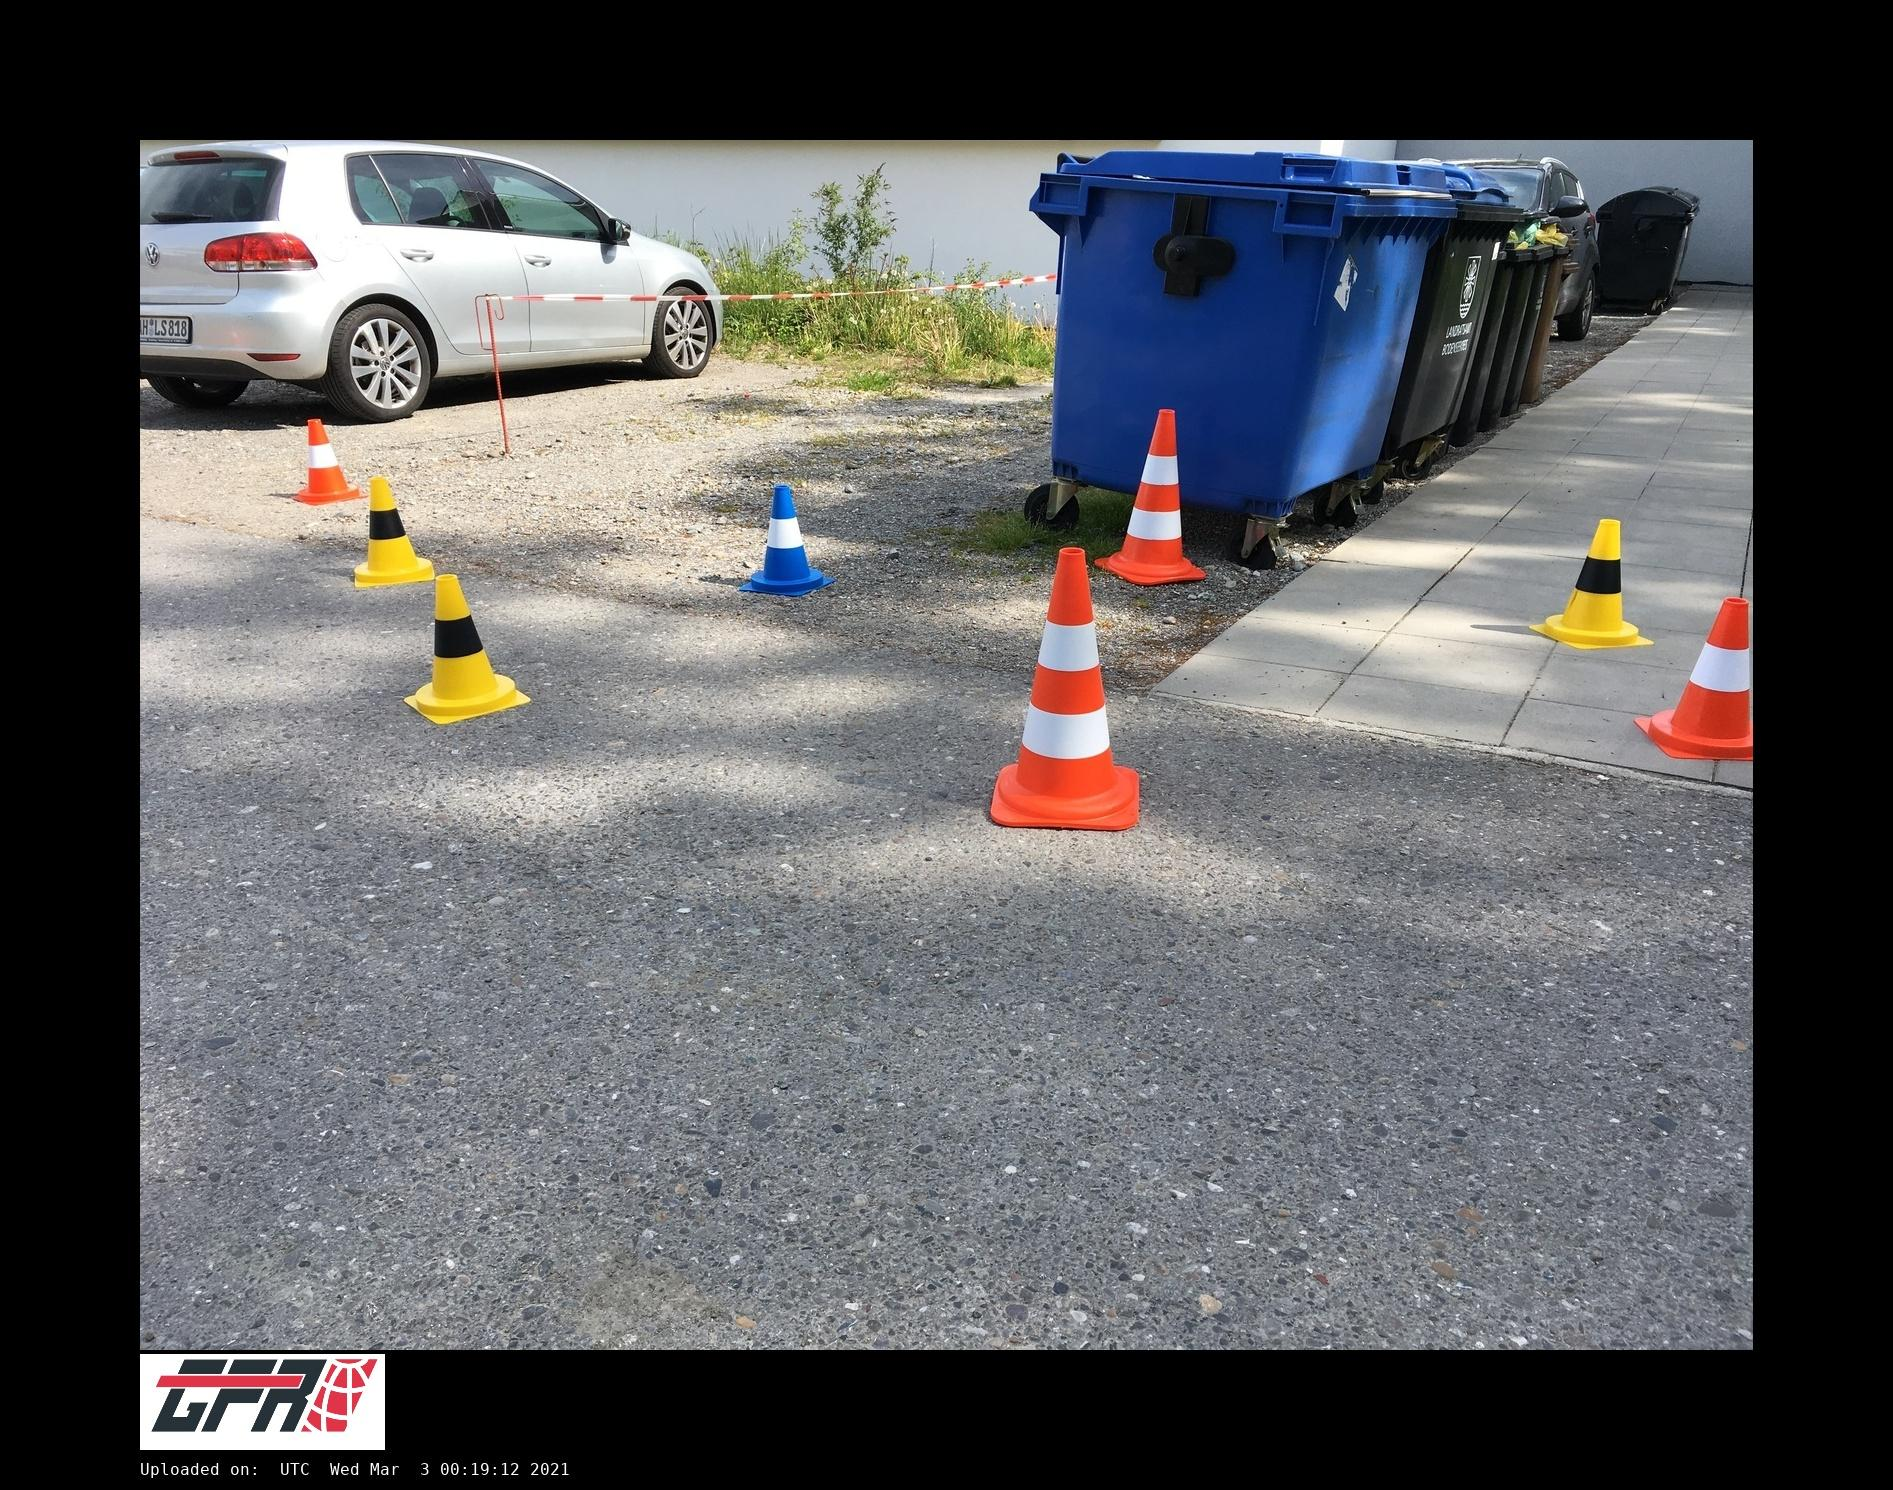blue_cone: (739, 485, 833, 596)
large_orange_cone: (994, 551, 1140, 825), (1099, 409, 1202, 579)
orange_cone: (1632, 596, 1752, 760), (292, 419, 367, 505)
yellow_cone: (403, 574, 530, 725), (1533, 519, 1653, 648), (355, 478, 433, 587)
